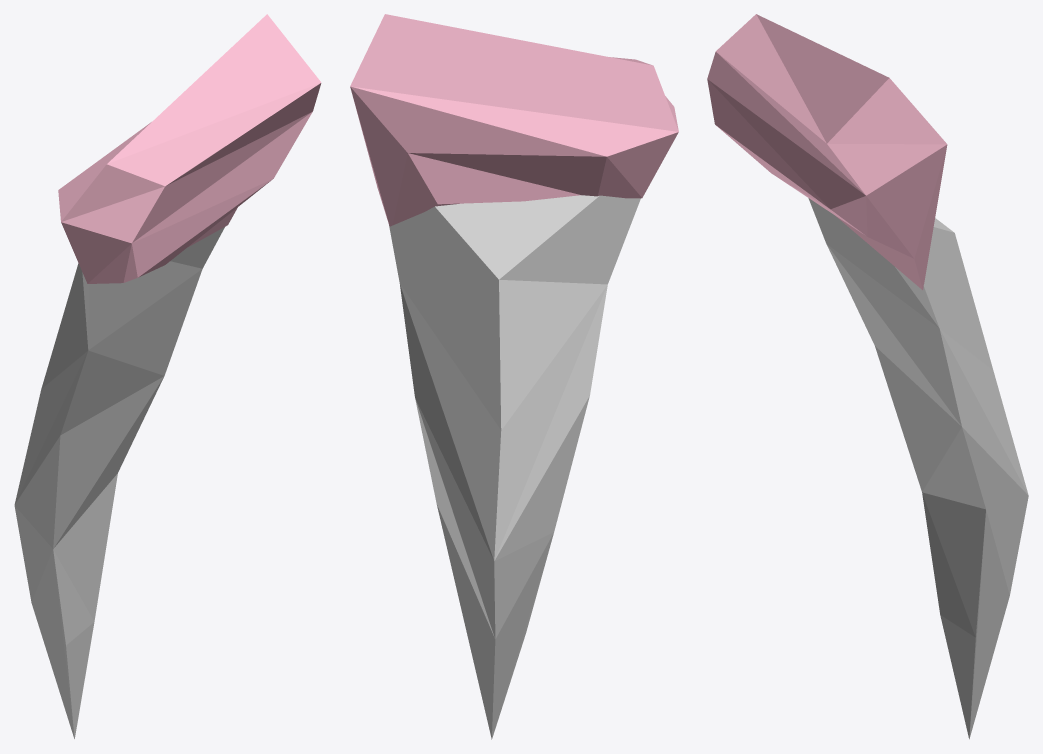
3 renders of one model, left to right at view 1: azimuth 30°, elevation 25°; view 2: azimuth 150°, elevation 25°; view 3: azimuth 270°, elevation 25°, orthographic. The views are drawn at different scales.
Visible parts, largest first — view 1: group_1688784022, mesh_1035787740; view 2: group_1688784022, mesh_1035787740; view 3: group_1688784022, mesh_1035787740.
Part boxes in pixels (x1,y1,x2,y2): group_1688784022: [14, 227, 224, 738]; mesh_1035787740: [58, 14, 321, 283]; group_1688784022: [389, 195, 640, 739]; mesh_1035787740: [350, 14, 678, 226]; group_1688784022: [808, 198, 1028, 739]; mesh_1035787740: [707, 14, 947, 290].
Bounding box in the file's own units: 27.69 × 64.06 × 25.24.
